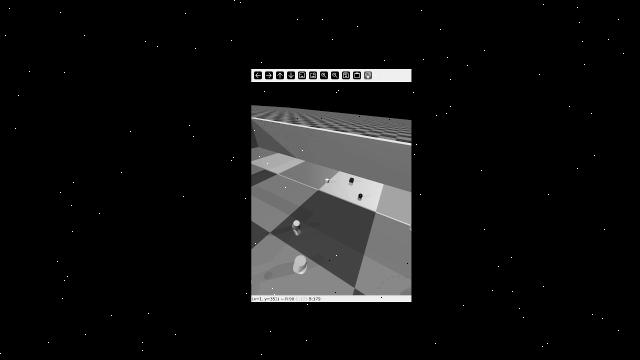cilindro: (290, 254, 311, 272), (290, 216, 303, 232)
cuadrado: (347, 178, 356, 182), (326, 177, 330, 184)
esfera: (356, 194, 366, 202)
